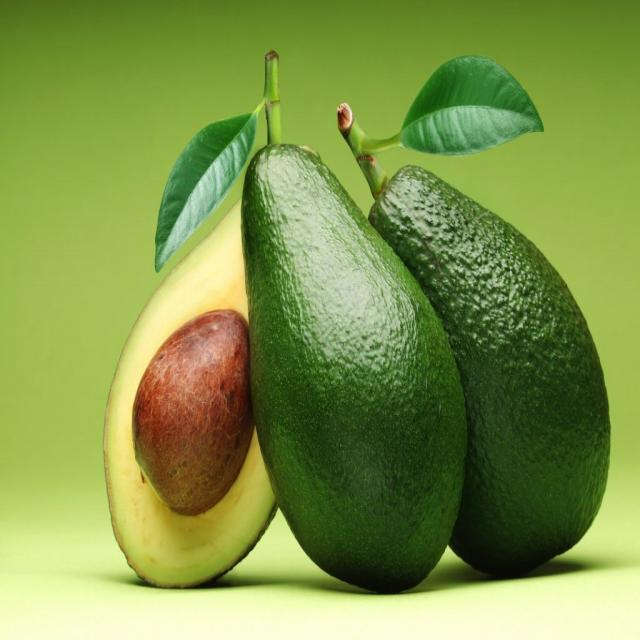avocado: (241, 142, 462, 594), (368, 164, 610, 576), (108, 204, 290, 586)
